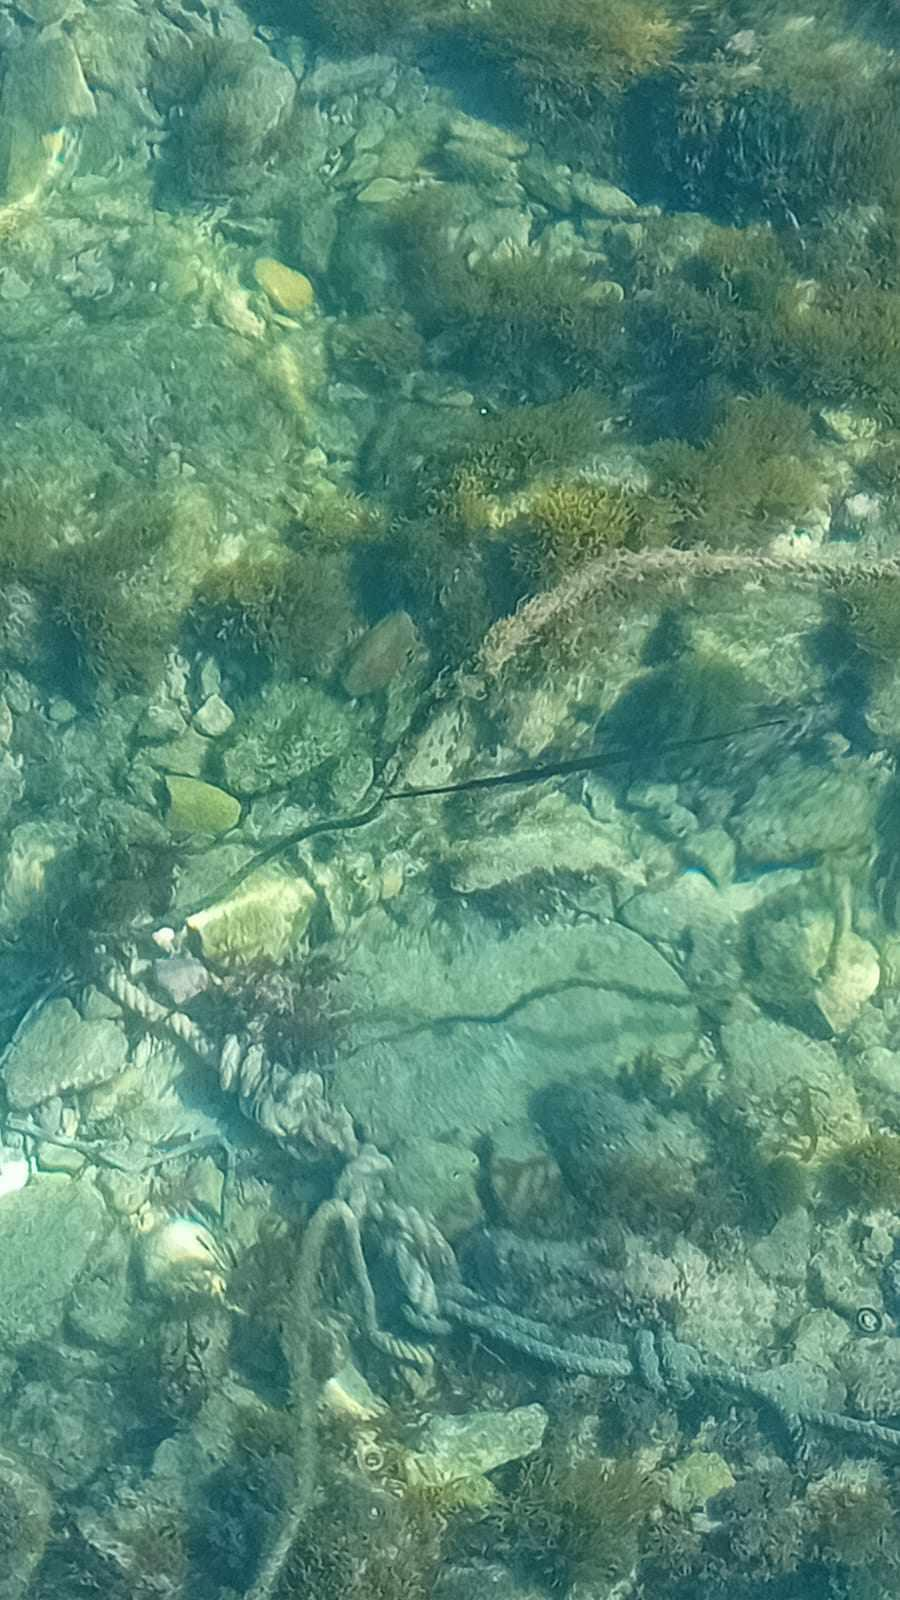Fistularia commersonii: (260, 695, 890, 833)
